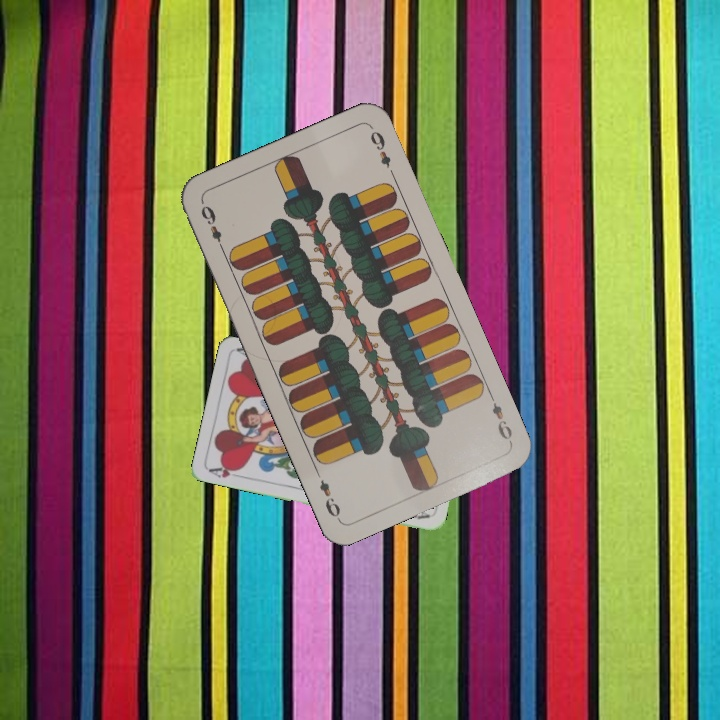E9: (196, 201, 228, 255), (485, 390, 515, 446)
HA: (205, 461, 246, 481)
